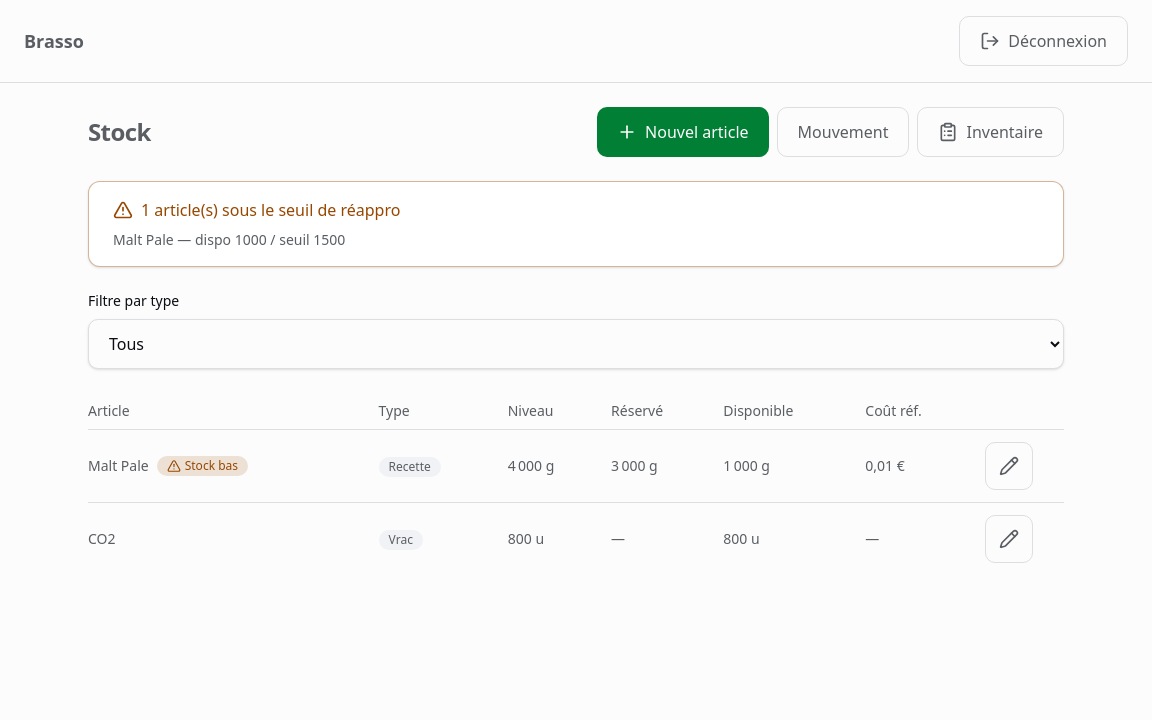
Test case: écran stock — écriture (M5-07) › inventaire : affiche l'écart puis recale à la validation
Click the button "Inventaire": (991, 132) [918, 107, 1064, 157]
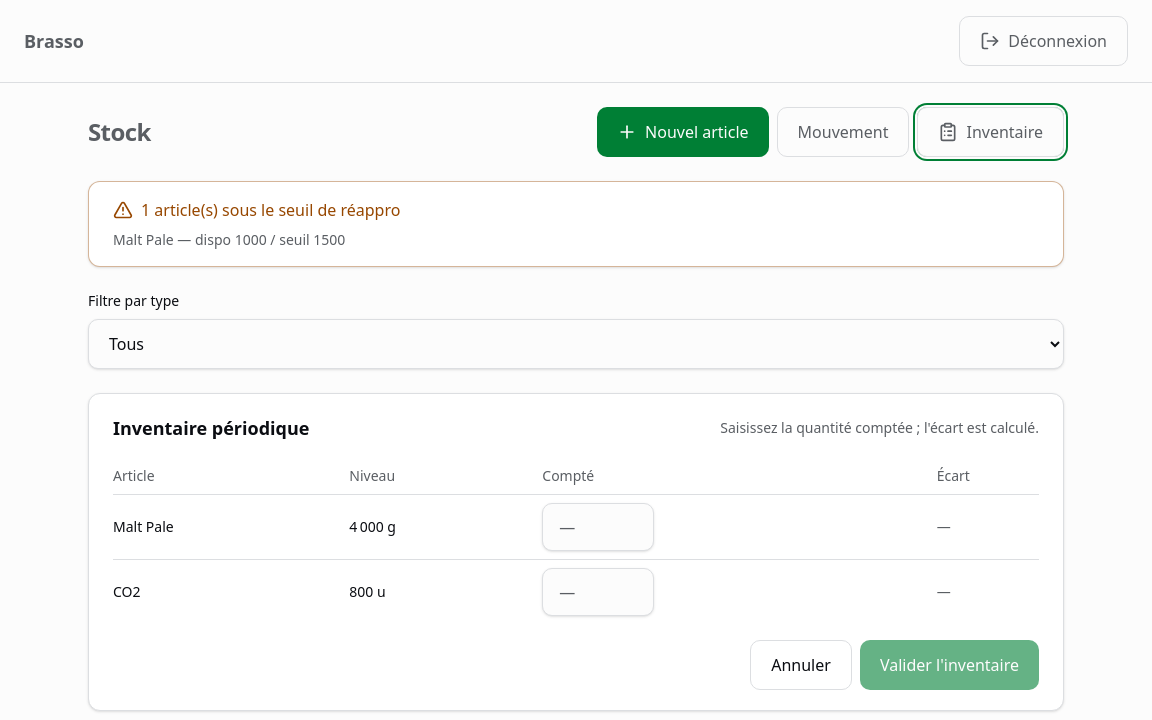
# Malt niveau 4000, compté 3500 → écart −500.
In the field named "quantité comptée — Malt Pale": (598, 527) [542, 503, 654, 551], type "3500"
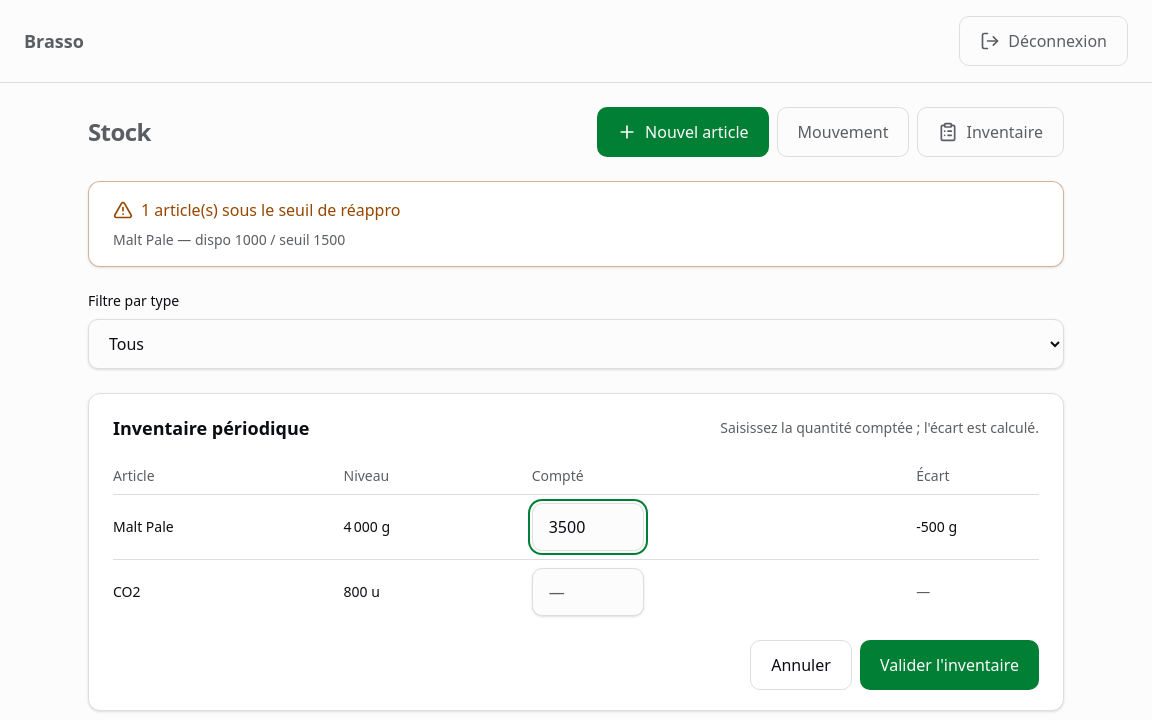
Expected: the text "-500 g" is shown, [916, 517, 957, 536]
Click the button "Valider l'inventaire": (949, 665) [860, 640, 1039, 690]
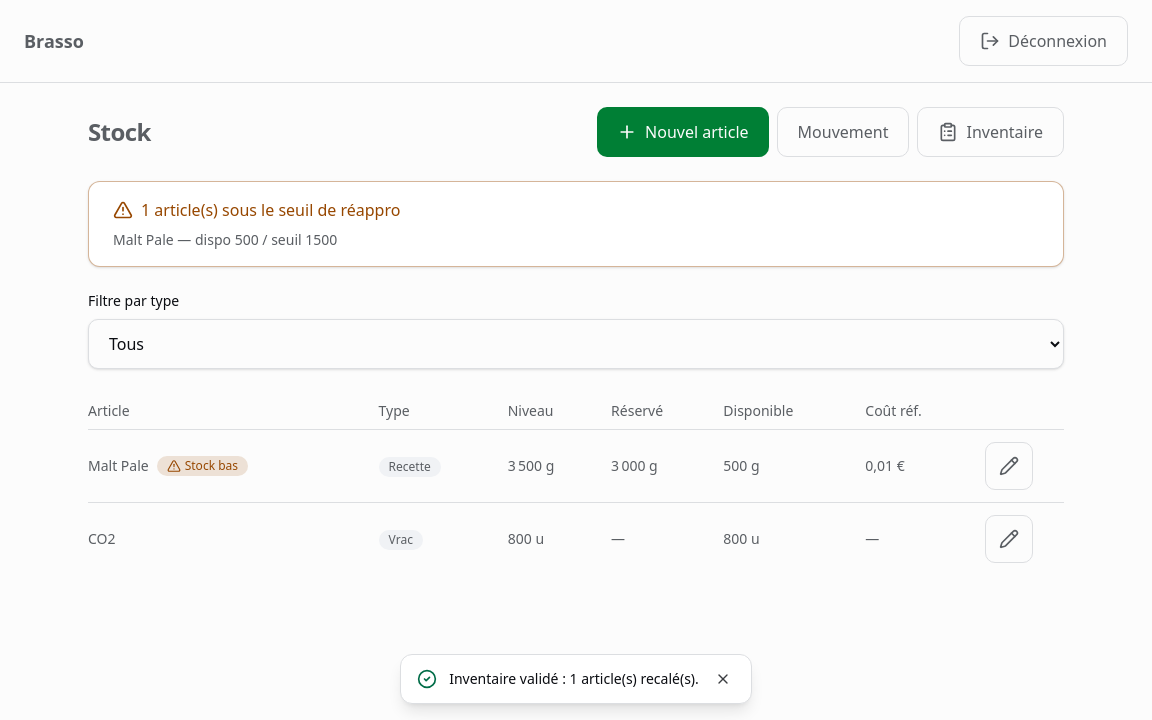
Expected: the message shows "Inventaire validé", [449, 669, 699, 688]
